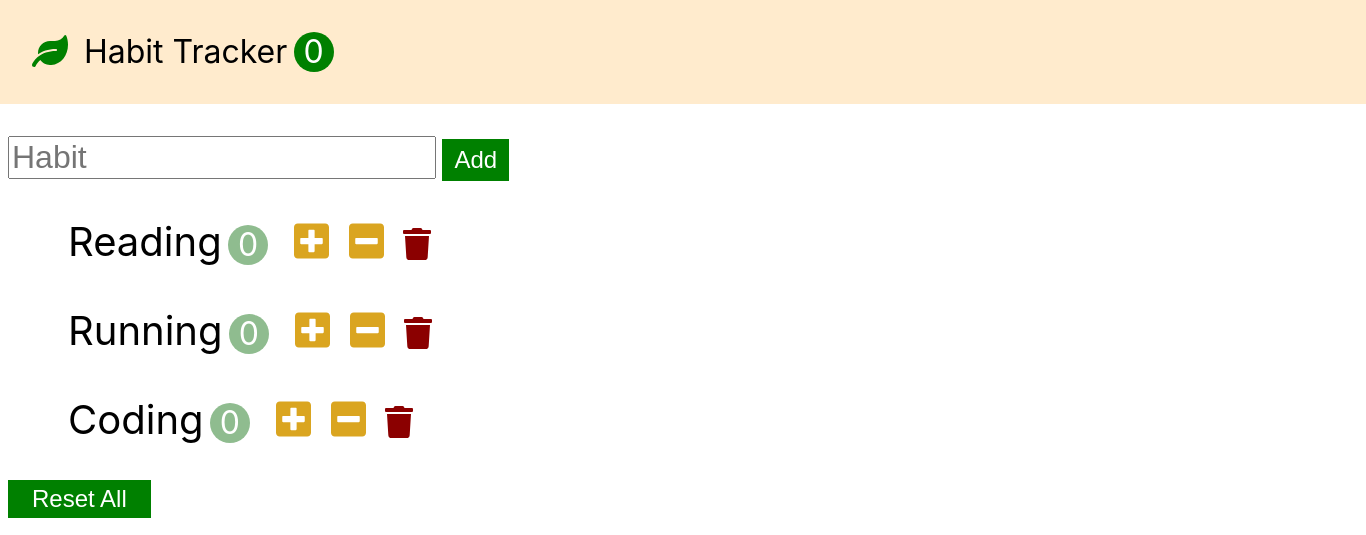
Scenario: Habit Tracker › display active total count
Step 1. Click the button titled "increase" in the row of "Reading" → (312, 243), box 288,219 -> 335,266
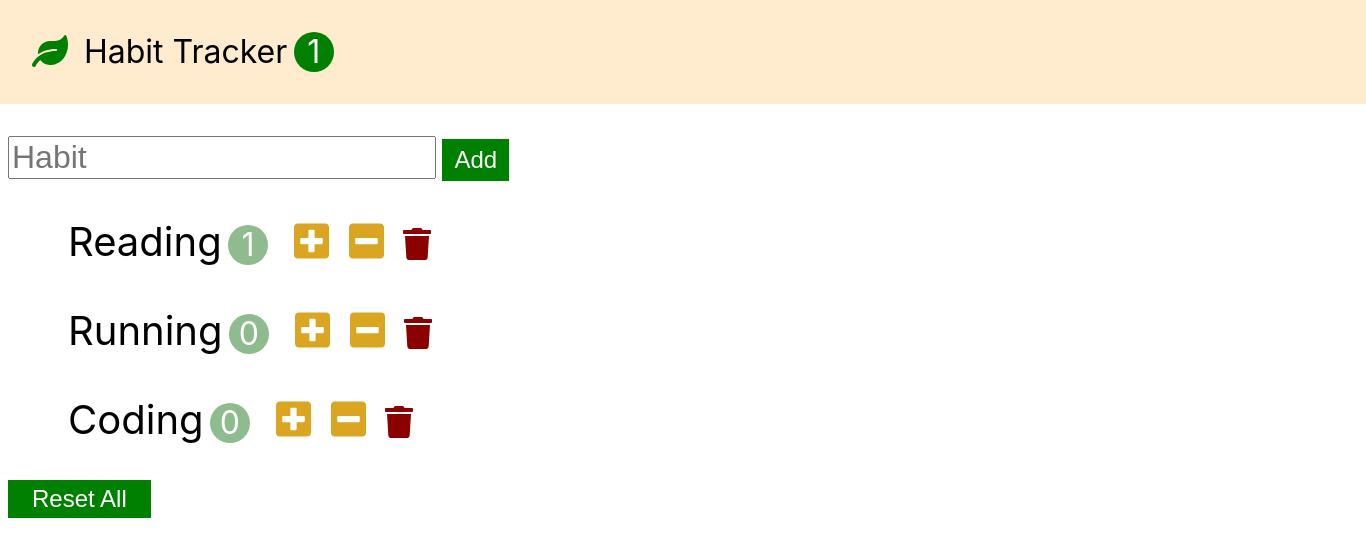
Result: the text with test id "habit-count" next to "Reading" reads "1" at 228,225 -> 268,265
Result: the text with test id "total-count" reads "1" at 294,32 -> 334,72
Step 2. Click the button titled "increase" in the row of "Reading" → (312, 243), box 288,219 -> 335,266
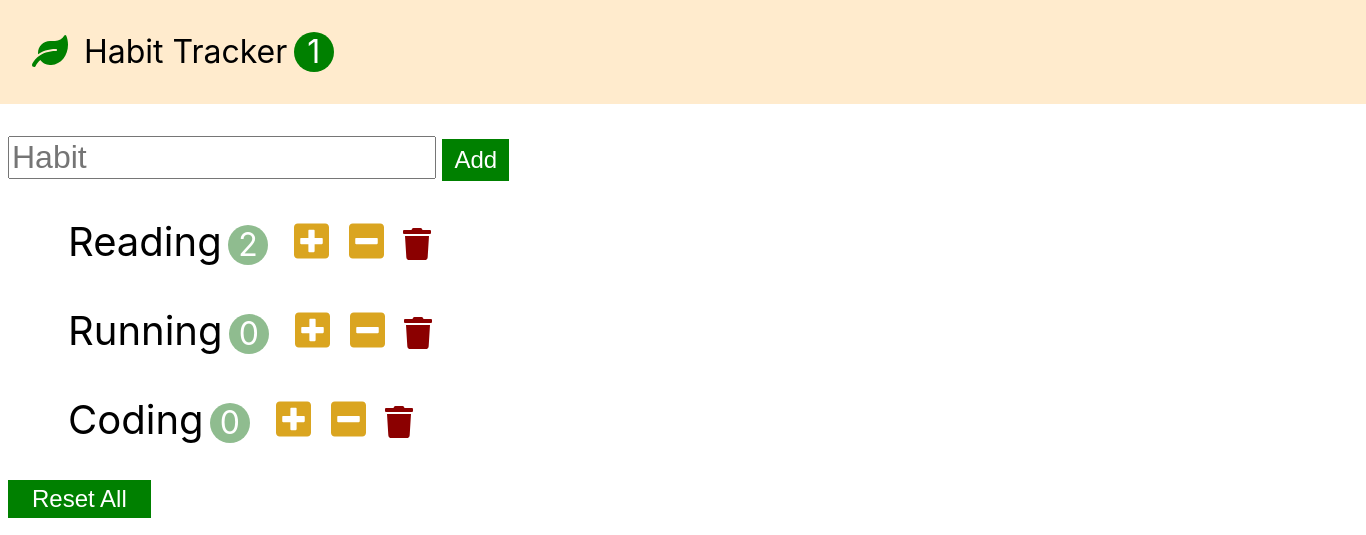
Result: the text with test id "total-count" reads "1" at 294,32 -> 334,72
Result: the text with test id "habit-count" reads "2" at 228,225 -> 268,265
Step 3. Click the button titled "increase" in the row of "Coding" → (294, 421), box 270,397 -> 317,444
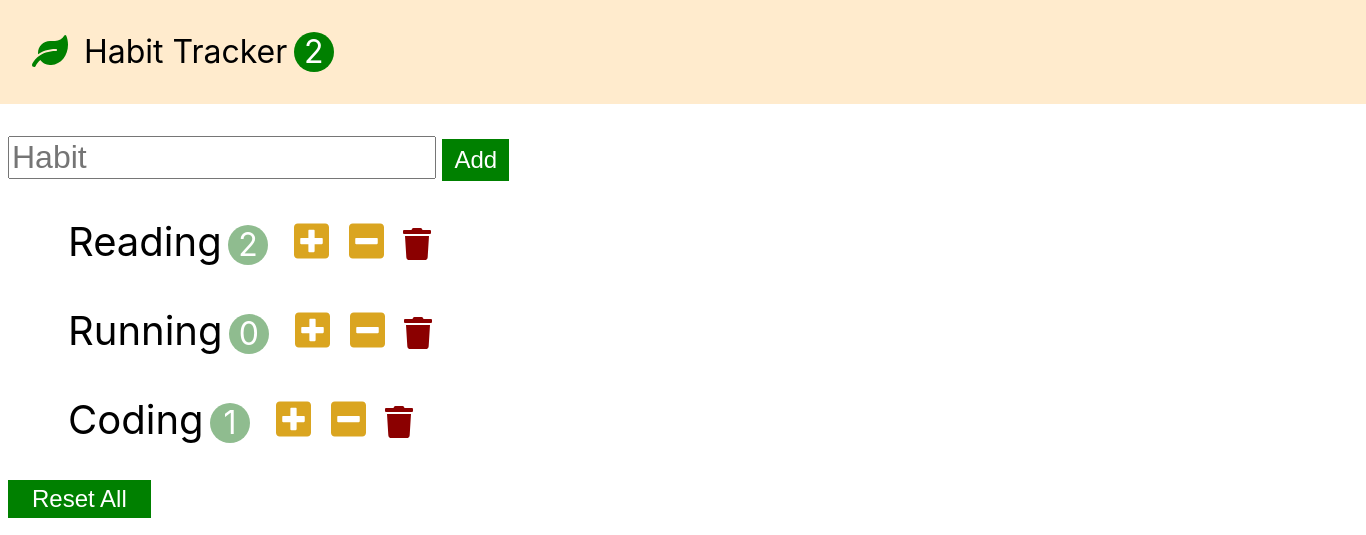
Result: the text with test id "habit-count" reads "1" at 210,403 -> 250,443
Result: the text with test id "total-count" reads "2" at 294,32 -> 334,72
